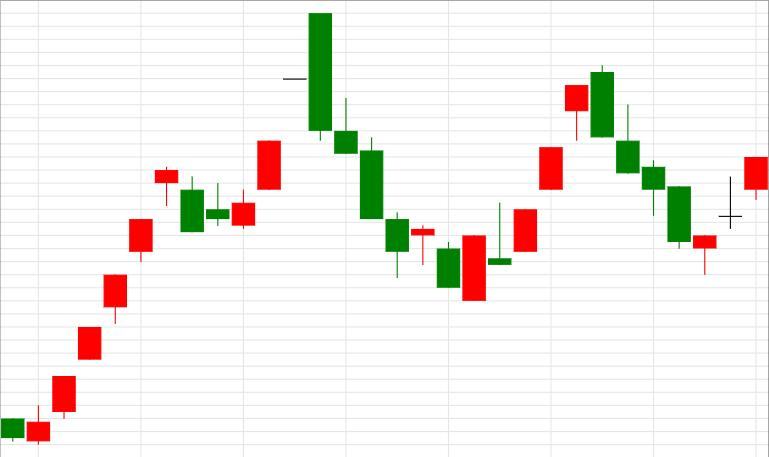bearish_engulfing_fall: (463, 64, 614, 303)
bullish_engulfing_rise: (309, 13, 485, 302)
evening_star_fall: (27, 167, 204, 446)
three_black_crows_fall: (232, 13, 383, 230)
